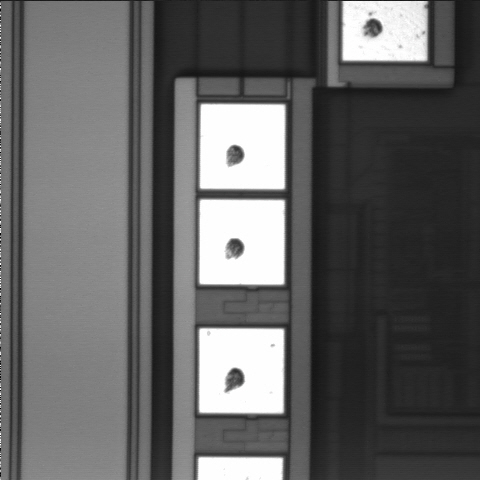pad: (200, 104, 285, 189), (199, 200, 284, 285), (199, 328, 284, 413)
